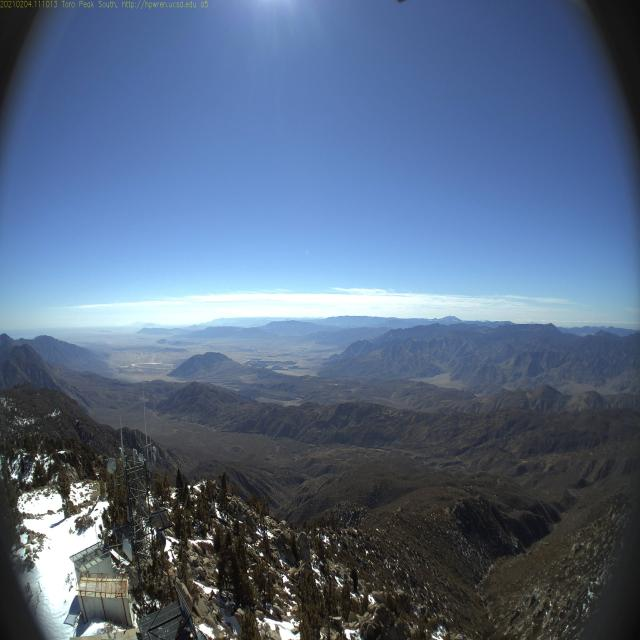smoke: (298, 352, 304, 361)
